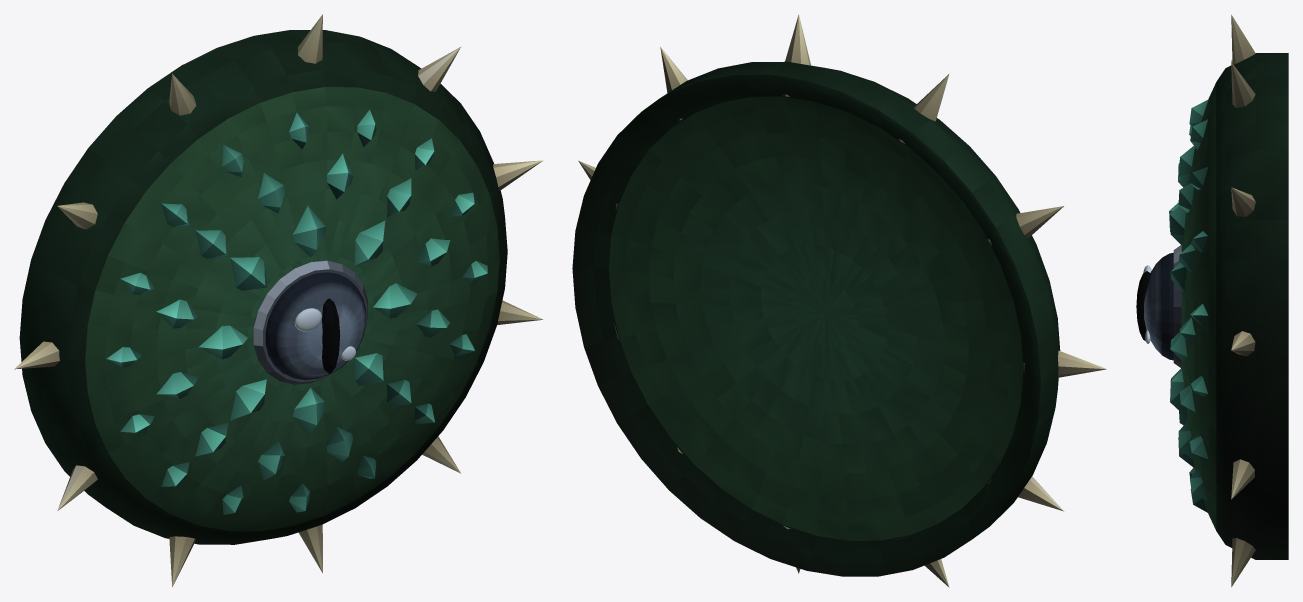
Rendered from Croc_Shield.glb.
The picture shows the model from 3 angles, left to right: view 1: azimuth 30°, elevation 25°; view 2: azimuth 150°, elevation 25°; view 3: azimuth 270°, elevation 25°; orthographic projection. The views are drawn at different scales.
Parts seen in each view (by area): view 1: Croc_Shield; view 2: Croc_Shield; view 3: Croc_Shield.
Part boxes in pixels (x1,y1,x2,y2): Croc_Shield: (14,14,543,587); Croc_Shield: (572,14,1106,587); Croc_Shield: (1136,14,1288,587).
Bounding box in the file's own units: 2.26 × 2.28 × 0.6.
